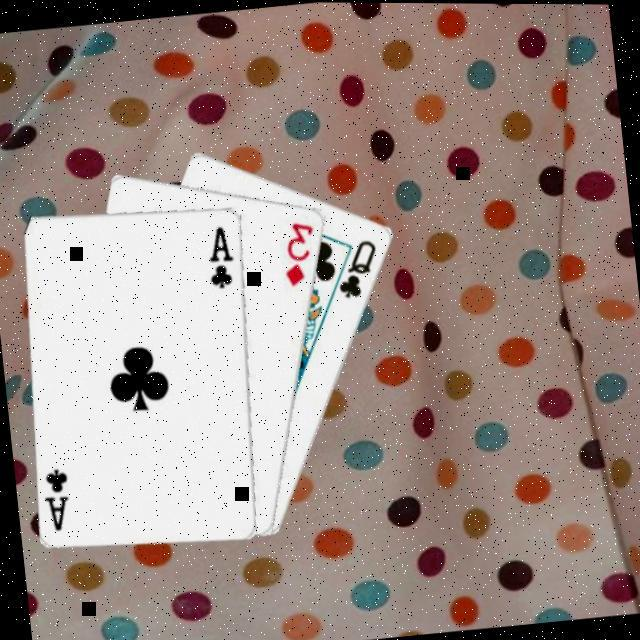3D: (279, 216, 324, 290)
AC: (203, 222, 242, 292), (41, 463, 78, 534)
QC: (333, 235, 387, 302)
